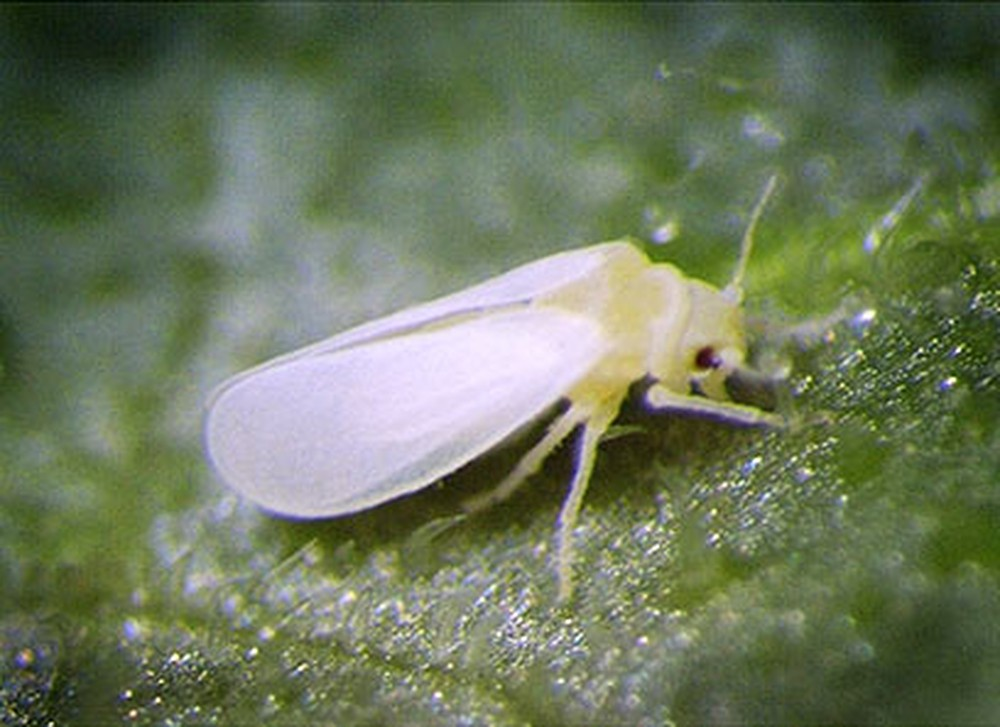Mosca Blanca: (182, 199, 843, 590)
